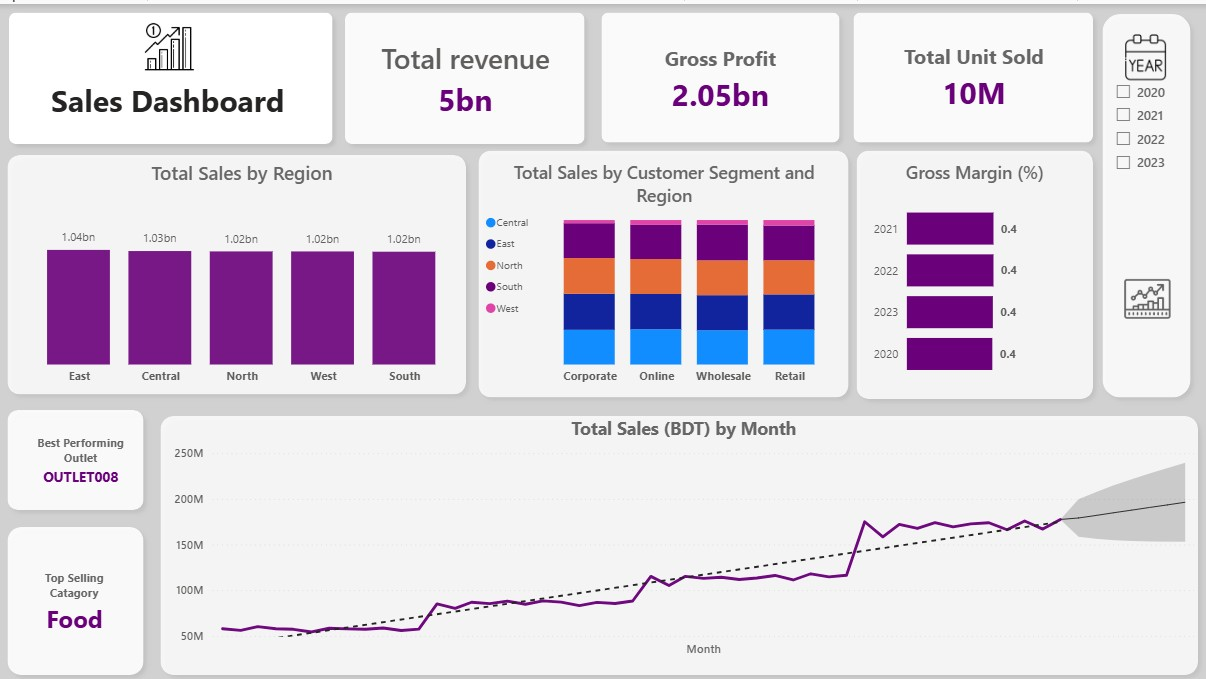

This screenshot's page, from the dashboard's own definition file:
{"tool":"powerbi","page":{"name":"Page 1","canvas":[1280,720],"ordinal":0},"visuals":[{"type":"shape","box":[1161.1,1.6,111.3,424.7],"z":0},{"type":"shape","box":[1.6,0,361.1,157.5],"z":1000},{"type":"shape","box":[357.9,0,272,157.5],"z":2000},{"type":"shape","box":[0,151.1,504.2,272],"z":3000},{"type":"shape","box":[162.2,427.9,1118.2,292.7],"z":4000},{"type":"shape","box":[499.5,146.3,410.4,279.9],"z":5000},{"type":"shape","box":[629.9,0,270.4,155.9],"z":6000},{"type":"shape","box":[897.1,0,272,155.9],"z":7000},{"type":"textbox","box":[28.6,74.8,300.6,71.6],"z":8000},{"type":"cardVisual","fields":{"Data":["Sum(Raw data.Total Sales (BDT))"]},"box":[370.6,15.9,248.1,127.2],"z":9000},{"type":"clusteredColumnChart","title":"Total Sales by Region","fields":{"Category":["Raw data.Region"],"Y":["Raw data.Total Revenue"]},"box":[11.1,165.4,493.1,246.5],"z":10000},{"type":"columnChart","title":"Total Sales by Customer Segment and Region","fields":{"Category":["Raw data.Customer Segment"],"Y":["Sum(Raw data.Total Sales (BDT))"],"Series":["Raw data.Region"]},"box":[510.6,165.4,389.7,246.5],"z":11000},{"type":"cardVisual","fields":{"Data":["Raw data.Gross Profit"]},"box":[641,15.9,248.1,127.2],"z":12000},{"type":"lineChart","title":"Total Sales (BDT) by Month","fields":{"Y":["Sum(Raw data.Total Sales (BDT))"],"Category":["Raw data.Date.Variation.Date Hierarchy.Year","Raw data.Date.Variation.Date Hierarchy.Quarter","Raw data.Date.Variation.Date Hierarchy.Month"]},"box":[179.7,437.4,1092.7,259.3],"z":13000},{"type":"cardVisual","fields":{"Data":["Sum(Raw data.Units Sold)"]},"box":[909.8,1.6,248.1,151.1],"z":14000},{"type":"shape","box":[900.3,146.3,268.8,281.5],"z":15000},{"type":"clusteredBarChart","title":"Gross Margin (%)","fields":{"Category":["Raw data.Year"],"Y":["Raw data.Gross Profit Margin %"]},"box":[919.4,165.4,230.6,246.5],"z":16000},{"type":"slicer","fields":{"Values":["Raw data.Year"]},"box":[1172.3,73.2,87.5,138.4],"z":17000},{"type":"image","box":[55.7,12.7,249.7,68.4],"z":18000},{"type":"image","box":[1186.6,31.8,58.9,49.3],"z":19000},{"type":"shape","box":[0,545.6,162.2,175],"z":20000},{"type":"cardVisual","fields":{"Data":["Raw data.Highest Selling Product"]},"box":[8,580.6,144.7,106.6],"z":21000},{"type":"shape","box":[0,421.5,162.2,124.1],"z":22000},{"type":"cardVisual","fields":{"Data":["Raw data.Best Performing Branch"]},"box":[11.1,421.5,151.1,124.1],"z":23000},{"type":"image","box":[1189.8,243.4,55.7,138.4],"z":24000}]}

Visuals, with their boxes in screenshot pixels (x1, y1, x2, y2), scaled from the page's 1280x720 canvas onto the 1206x679 screenshot:
shape: x1=1094 y1=2 x2=1199 y2=402
shape: x1=2 y1=0 x2=342 y2=149
shape: x1=337 y1=0 x2=593 y2=149
shape: x1=0 y1=142 x2=475 y2=399
shape: x1=153 y1=404 x2=1205 y2=678
shape: x1=471 y1=138 x2=857 y2=402
shape: x1=593 y1=0 x2=848 y2=147
shape: x1=845 y1=0 x2=1102 y2=147
textbox: x1=27 y1=71 x2=310 y2=138
cardVisual - Sum(Raw data.Total Sales (BDT)): x1=349 y1=15 x2=583 y2=135
"Total Sales by Region" clusteredColumnChart: x1=10 y1=156 x2=475 y2=388
"Total Sales by Customer Segment and Region" columnChart: x1=481 y1=156 x2=848 y2=388
cardVisual - Raw data.Gross Profit: x1=604 y1=15 x2=838 y2=135
"Total Sales (BDT) by Month" lineChart: x1=169 y1=412 x2=1199 y2=657
cardVisual - Sum(Raw data.Units Sold): x1=857 y1=2 x2=1091 y2=144
shape: x1=848 y1=138 x2=1102 y2=403
"Gross Margin (%)" clusteredBarChart: x1=866 y1=156 x2=1084 y2=388
slicer - Raw data.Year: x1=1105 y1=69 x2=1187 y2=200
image: x1=52 y1=12 x2=288 y2=76
image: x1=1118 y1=30 x2=1173 y2=76
shape: x1=0 y1=515 x2=153 y2=678
cardVisual - Raw data.Highest Selling Product: x1=8 y1=548 x2=144 y2=648
shape: x1=0 y1=397 x2=153 y2=515
cardVisual - Raw data.Best Performing Branch: x1=10 y1=397 x2=153 y2=515
image: x1=1121 y1=230 x2=1173 y2=360
